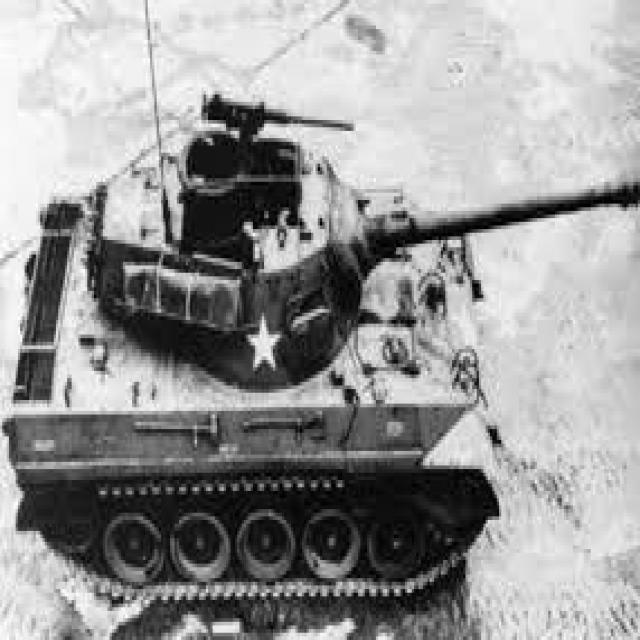MIL_MBT: (19, 102, 505, 611)
